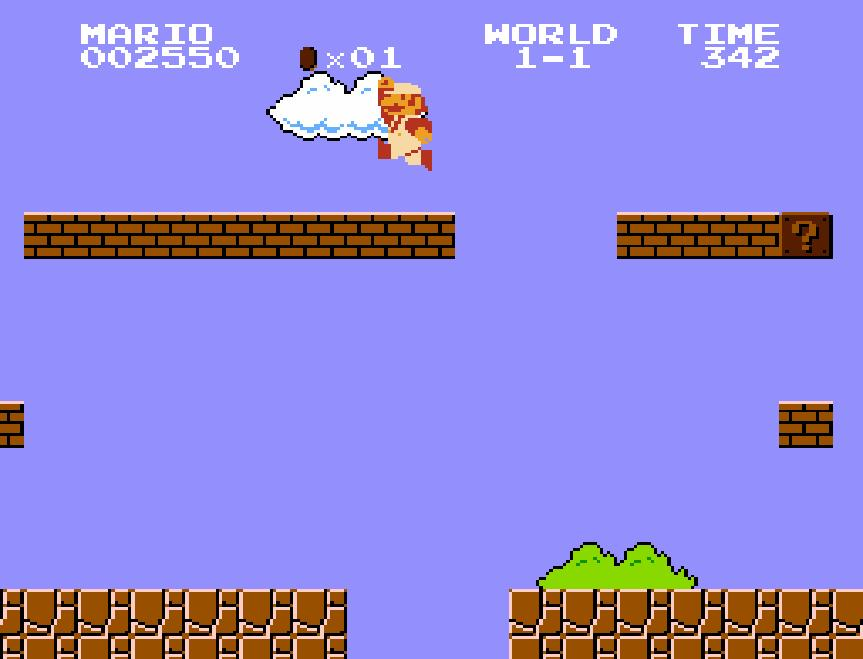fire_mario: (376, 73, 434, 172)
